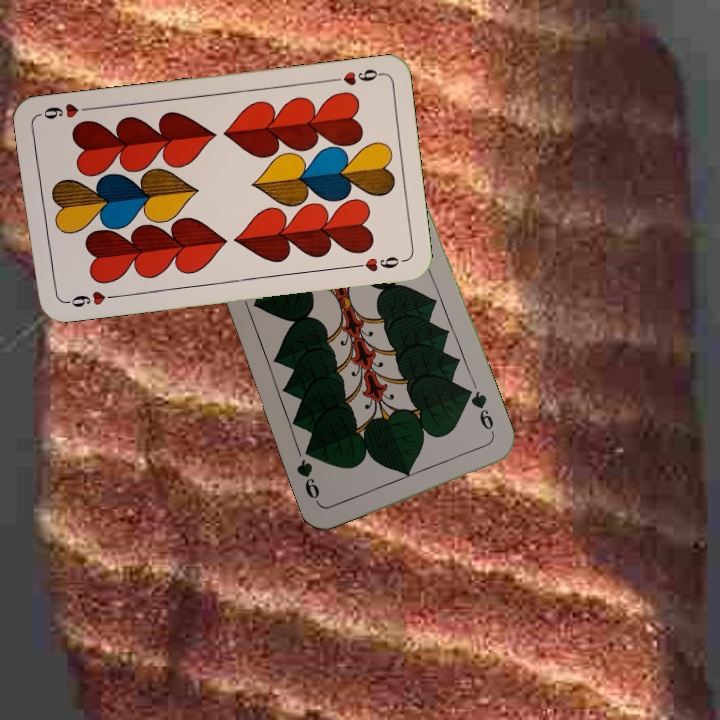G9: (464, 385, 498, 440)
H9: (59, 287, 119, 310), (325, 65, 384, 88)
